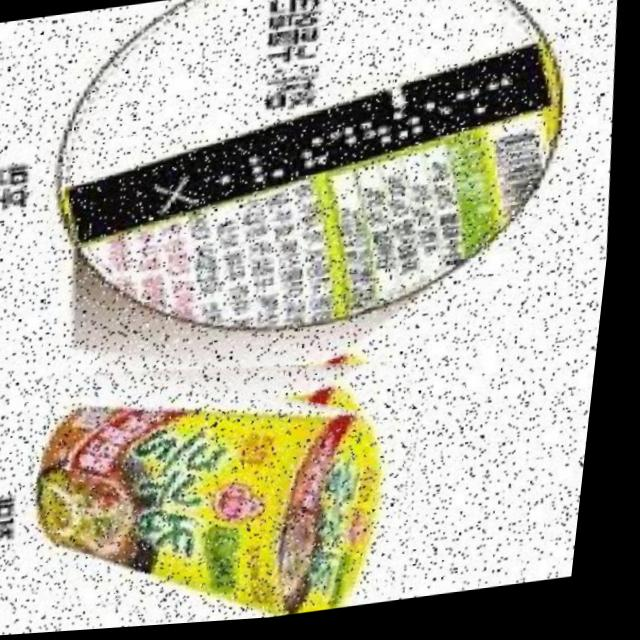Miscellaneous: (11, 324, 452, 636)
